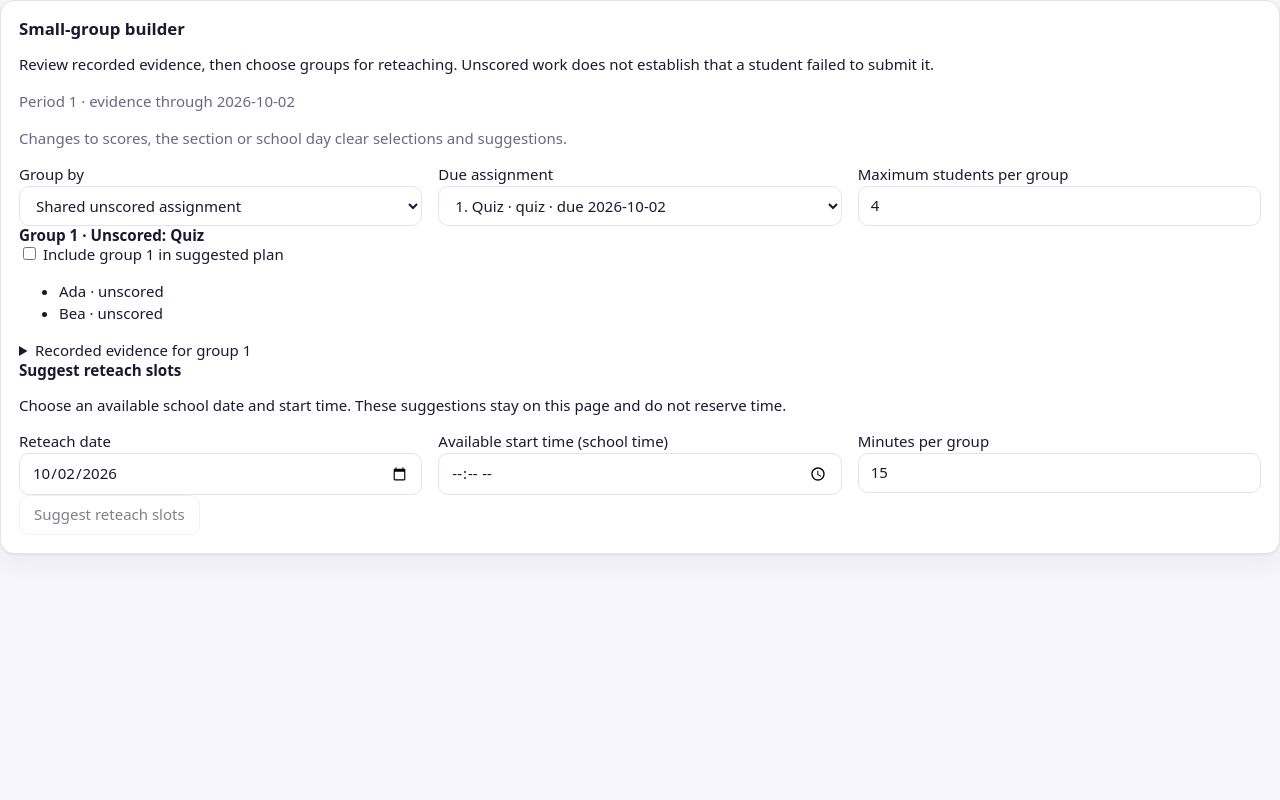
Test case: splits groups to the requested capacity and assigns sequential suggested slots
Replace the text in the number field labelled "Maximum students per group" with "1": (1059, 206) [858,186,1261,226]
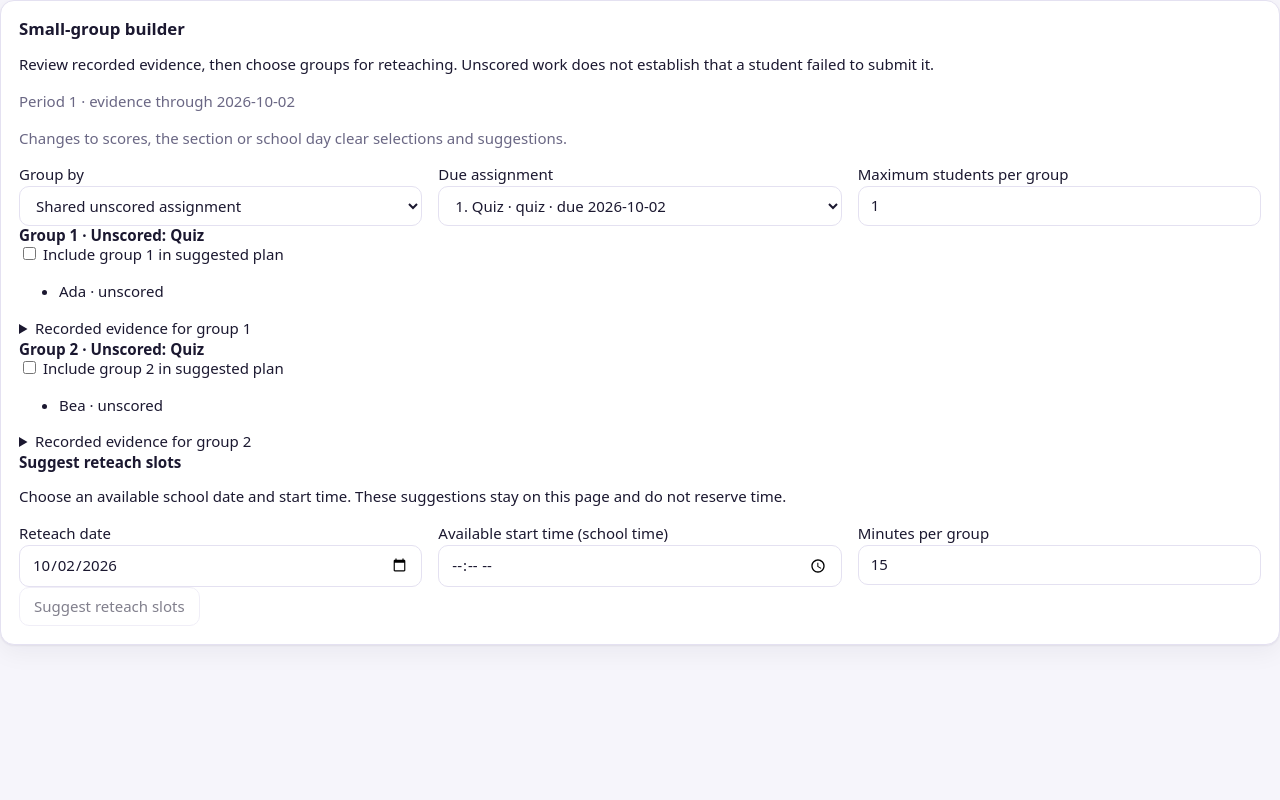
Click the checkbox labelled "Include group 1 in suggested plan": (30, 254) [23,247,36,260]
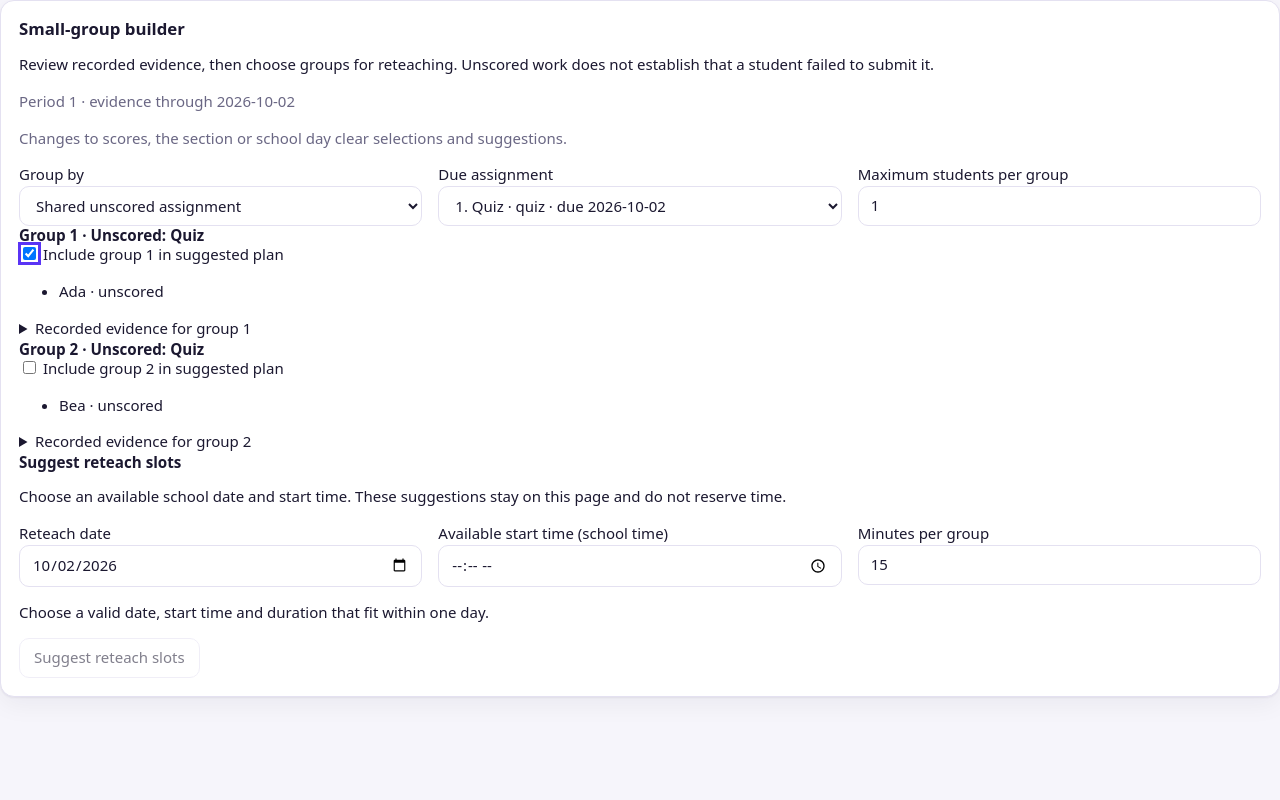
Click the checkbox labelled "Include group 2 in suggested plan": (30, 367) [23,361,36,374]
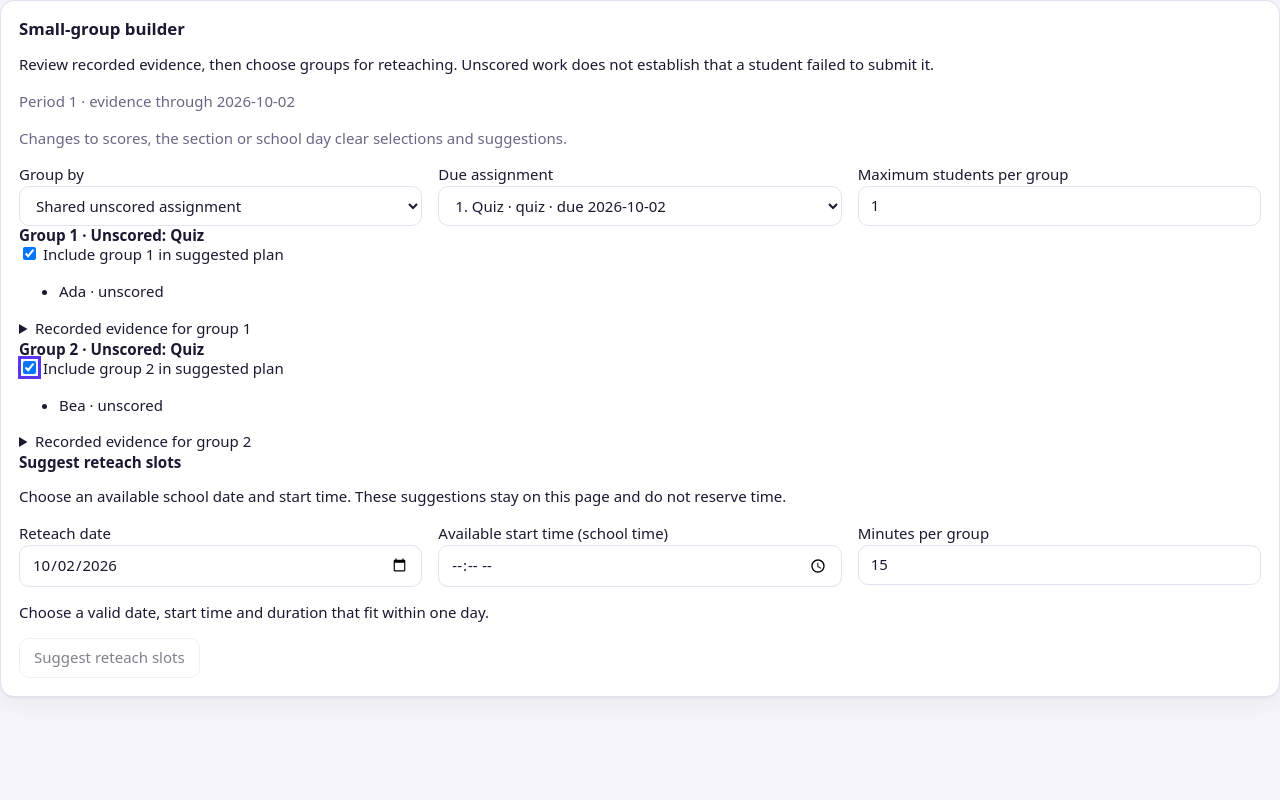
In the time field labelled "Available start time (school time)": (640, 566) [438,545,842,587], type "09:10"
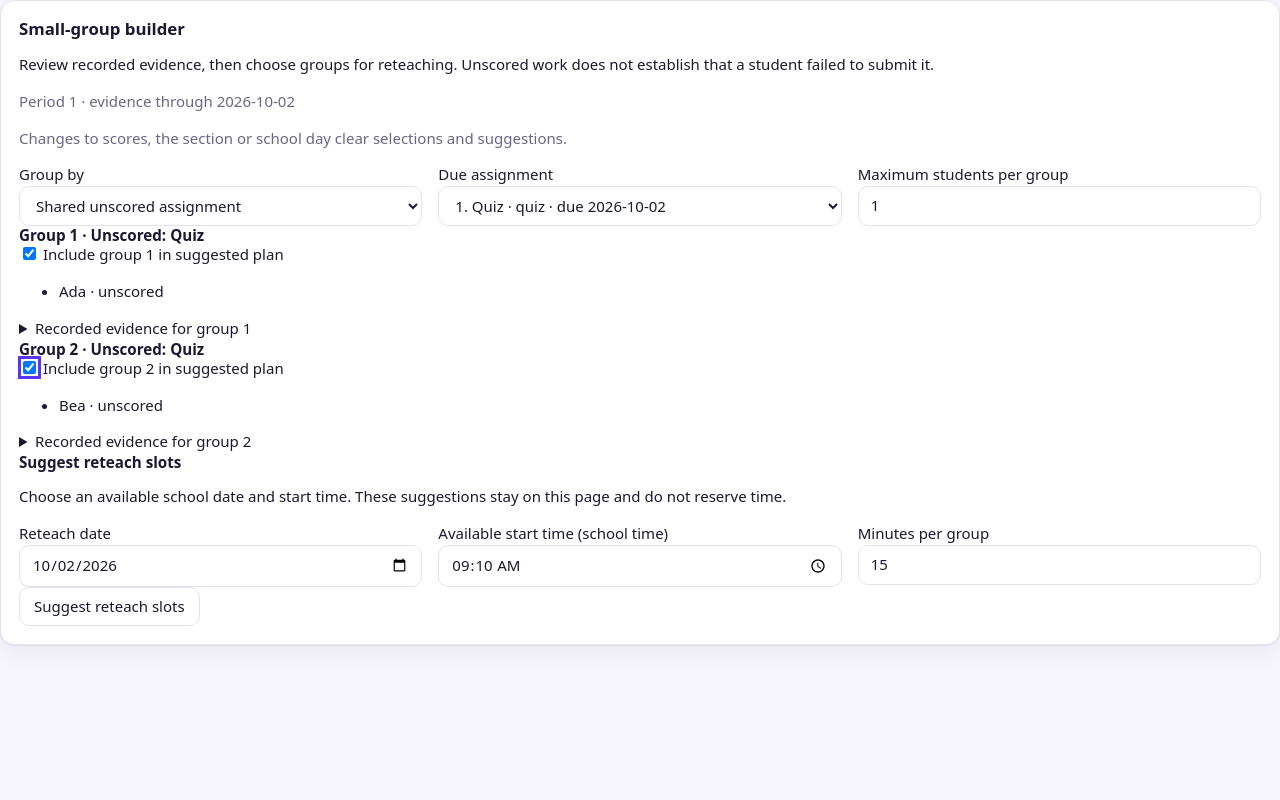
Click the button "Suggest reteach slots": (109, 606) [19,587,200,626]
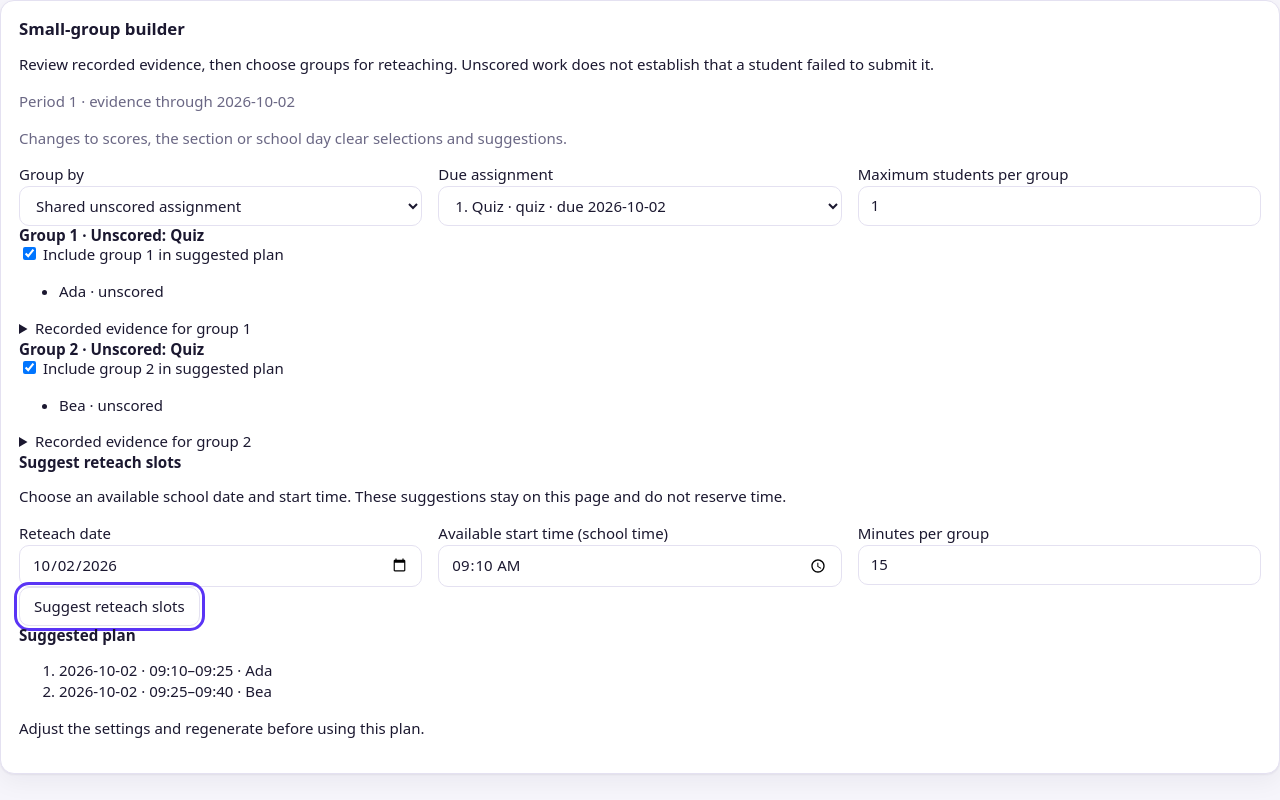
Result: the element named "Suggested reteach plan" shows "09:10–09:25 · Ada" at [19,625,424,738]
Result: the element named "Suggested reteach plan" shows "09:25–09:40 · Bea" at [19,625,424,738]
